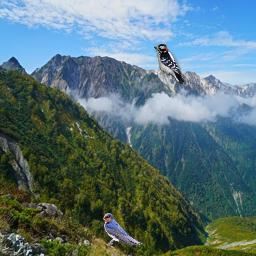Swallow: (103, 213, 143, 245)
Woodpecker: (154, 44, 185, 84)
